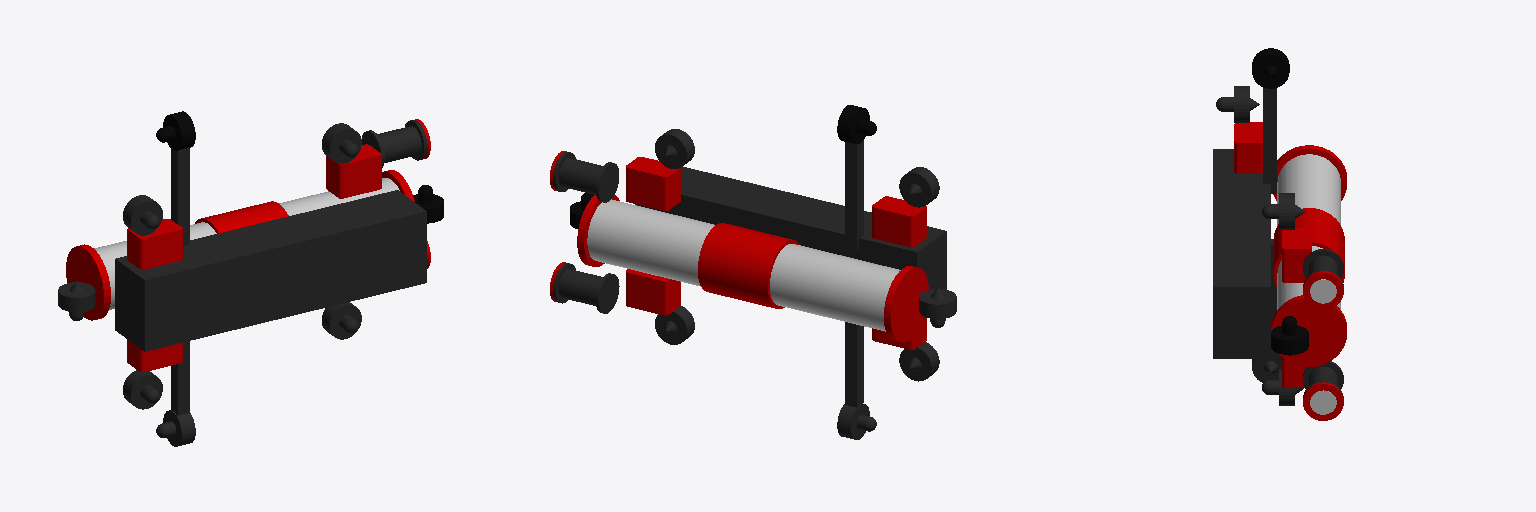
Rendered from thor.obj.
3 views of the same model, side by side, from view 1: azimuth 30°, elevation 25°; view 2: azimuth 150°, elevation 25°; view 3: azimuth 270°, elevation 25° (orthographic).
Visible parts, largest first — view 1: Cube_Cube.001, Cylinder, Cube.004_Cube.005, Cube.001_Cube.002, EndCapFore.001_Cylinder.006, CameraStar_Cylinder.014, Cube.006_Cube.007, Cylinder.001, ThrusterForeSway.001_Cone.001, ThrusterForeSway.004_Cone.004, ThrusterForeSway.003_Cone.003, Cube.002_Cube.003 (+6 smaller); view 2: Cylinder, Cube_Cube.001, Cylinder.001, Cube.004_Cube.005, EndCapFore.001_Cylinder.006, Cube.001_Cube.002, CameraStar_Cylinder.014, CameraPort_Cylinder.010, Cube.003_Cube.004, Cube.006_Cube.007, Cube.005_Cube.006, ThrusterForeSway.004_Cone.004 (+8 smaller); view 3: Cube_Cube.001, Cylinder, EndCapFore_Cylinder.005, Cylinder.001, Cube.001_Cube.002, Cube.004_Cube.005, Cube.006_Cube.007, ThrusterForeSway.007_Cone.007, ThrusterForeSway_Cone, ThrusterForeSway.004_Cone.004, ThrusterForeSway.001_Cone.001, EndCapFore.001_Cylinder.006 (+7 smaller).
Part boxes in pixels (x1,y1,x2,y2): Cube_Cube.001: (115,190,426,351); Cylinder: (94,178,399,309); Cube.004_Cube.005: (326,144,381,198); Cube.001_Cube.002: (127,219,182,269); EndCapFore.001_Cylinder.006: (66,244,110,320); CameraStar_Cylinder.014: (362,120,427,167); Cube.006_Cube.007: (171,148,189,245); Cylinder.001: (195,201,288,233); ThrusterForeSway.001_Cone.001: (322,123,361,163); ThrusterForeSway.004_Cone.004: (123,195,162,235); ThrusterForeSway.003_Cone.003: (123,370,162,409); Cube.002_Cube.003: (127,339,182,371); Cylinder: (587,199,900,331); Cube_Cube.001: (635,167,946,319); Cylinder.001: (698,223,799,308); Cube.004_Cube.005: (626,157,680,210); EndCapFore.001_Cylinder.006: (884,266,928,341); Cube.001_Cube.002: (872,196,926,246); CameraStar_Cylinder.014: (553,152,618,202); CameraPort_Cylinder.010: (553,263,619,313); Cube.003_Cube.004: (626,269,680,315); Cube.006_Cube.007: (845,140,863,249); Cube.005_Cube.006: (845,322,863,407); ThrusterForeSway.004_Cone.004: (899,167,939,207); Cube_Cube.001: (1213,149,1270,358); Cylinder: (1277,154,1340,309); EndCapFore_Cylinder.005: (1271,295,1346,366); Cylinder.001: (1274,208,1344,286); Cube.001_Cube.002: (1234,122,1262,173); Cube.004_Cube.005: (1282,228,1311,282); Cube.006_Cube.007: (1263,88,1276,193); ThrusterForeSway.007_Cone.007: (1252,48,1289,88); ThrusterForeSway_Cone: (1271,316,1308,355); ThrusterForeSway.004_Cone.004: (1216,86,1259,122); ThrusterForeSway.001_Cone.001: (1262,193,1304,229); EndCapFore.001_Cylinder.006: (1273,145,1346,200).
Size of the model in its own units: 1.16 by 0.9559 by 0.3543.